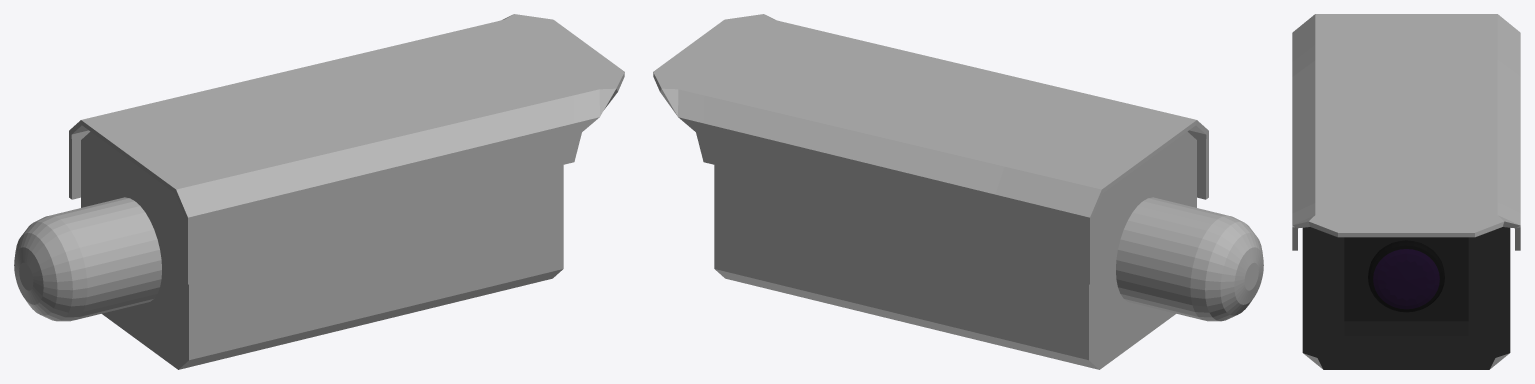
3 renders of one model, left to right at view 1: azimuth 30°, elevation 25°; view 2: azimuth 150°, elevation 25°; view 3: azimuth 270°, elevation 25°, orthographic. The views are drawn at different scales.
Parts seen in each view (by area): view 1: Hood, Body, Arm; view 2: Hood, Body, Arm; view 3: Hood, Body, Glass, Lens.
Boxes of the visible parts, x1,y1,x2,y2 form: Hood: [69, 14, 624, 284]; Body: [81, 131, 563, 369]; Arm: [14, 197, 161, 321]; Hood: [653, 14, 1208, 284]; Body: [714, 131, 1196, 369]; Arm: [1116, 197, 1263, 321]; Hood: [1292, 14, 1520, 250]; Body: [1302, 227, 1510, 369]; Glass: [1345, 238, 1467, 335]; Lens: [1368, 240, 1444, 312].
Bounding box in the file's own units: 18.04 × 5.67 × 6.6.
